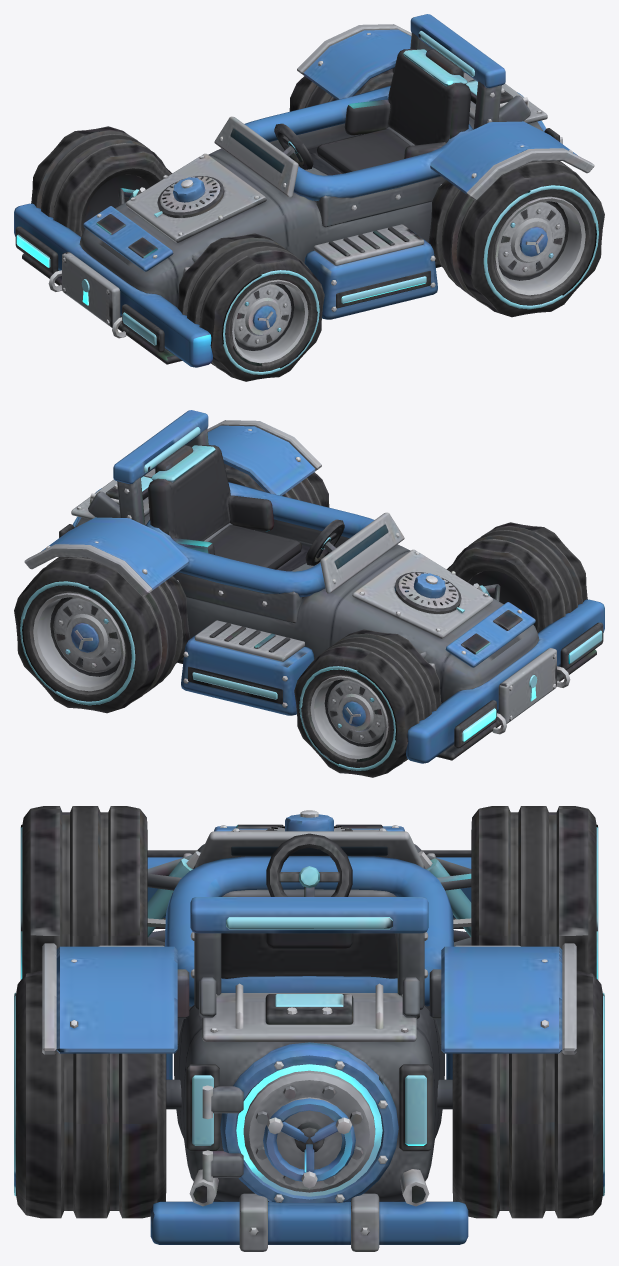
File: cold-wallet-v2.glb
3 views of the same model, one above another, from view 1: azimuth 30°, elevation 25°; view 2: azimuth 150°, elevation 25°; view 3: azimuth 270°, elevation 25° (orthographic). The views are drawn at different scales.
Visible parts, largest first — view 1: coldwallet_body, wheel_rear, wheel_front_l, wheel_front_r; view 2: coldwallet_body, wheel_rear, wheel_front_r, wheel_front_l; view 3: coldwallet_body, wheel_rear, wheel_front_l, wheel_front_r.
Boxes of the visible parts, box(x1,y1,x2,y2) form: coldwallet_body: box(14, 14, 594, 367); wheel_rear: box(289, 68, 604, 317); wheel_front_l: box(177, 233, 324, 381); wheel_front_r: box(31, 126, 172, 236); coldwallet_body: box(24, 410, 604, 763); wheel_rear: box(14, 464, 329, 713); wheel_front_r: box(294, 629, 441, 777); wheel_front_l: box(446, 522, 587, 632); coldwallet_body: box(42, 810, 576, 1251); wheel_rear: box(14, 970, 604, 1218); wheel_front_l: box(20, 806, 147, 979); wheel_front_r: box(471, 806, 598, 979).
Bounding box in the file's own units: 1.03 × 0.436 × 0.7435.
1 material, 1 textured.
